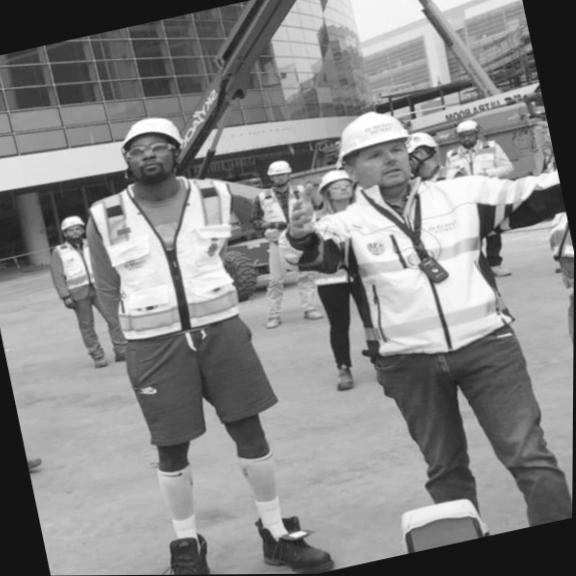safety_vest: (328, 169, 514, 378), (82, 169, 259, 363)
